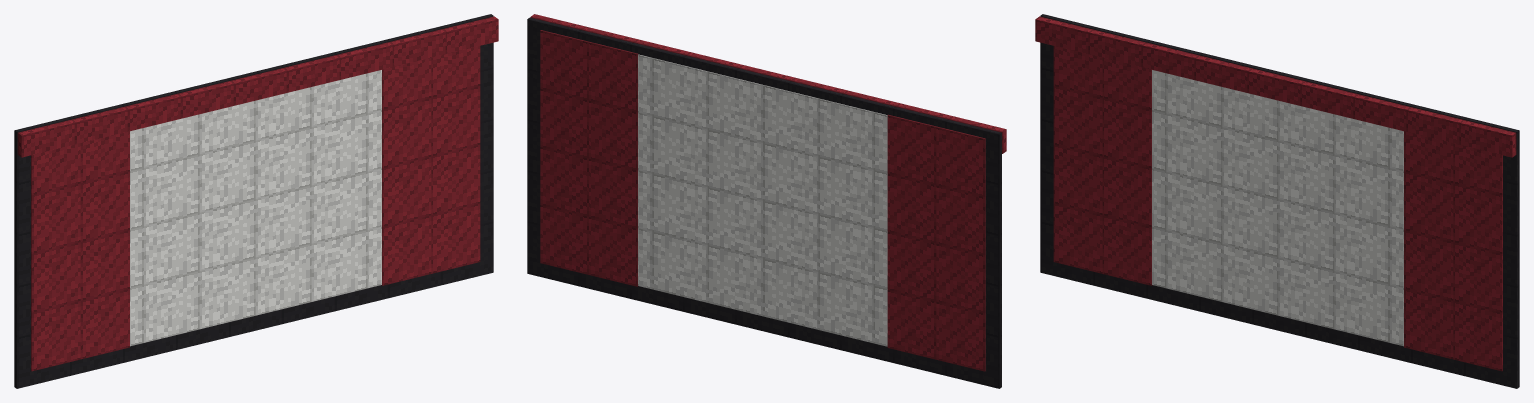
The model's file is cinemaScreen_0.glb.
3 views of the same model, side by side, from view 1: azimuth 30°, elevation 25°; view 2: azimuth 150°, elevation 25°; view 3: azimuth 330°, elevation 25° (orthographic).
Visible parts, largest first — view 1: cinemaScreen_0; view 2: cinemaScreen_0; view 3: cinemaScreen_0.
Part boxes in pixels (x1,y1,x2,y2): cinemaScreen_0: (14,14,498,388); cinemaScreen_0: (527,14,1006,388); cinemaScreen_0: (1035,14,1519,388).
Size of the model in its own units: 4.25 by 2.19 by 0.125.
1 material, 1 textured.
